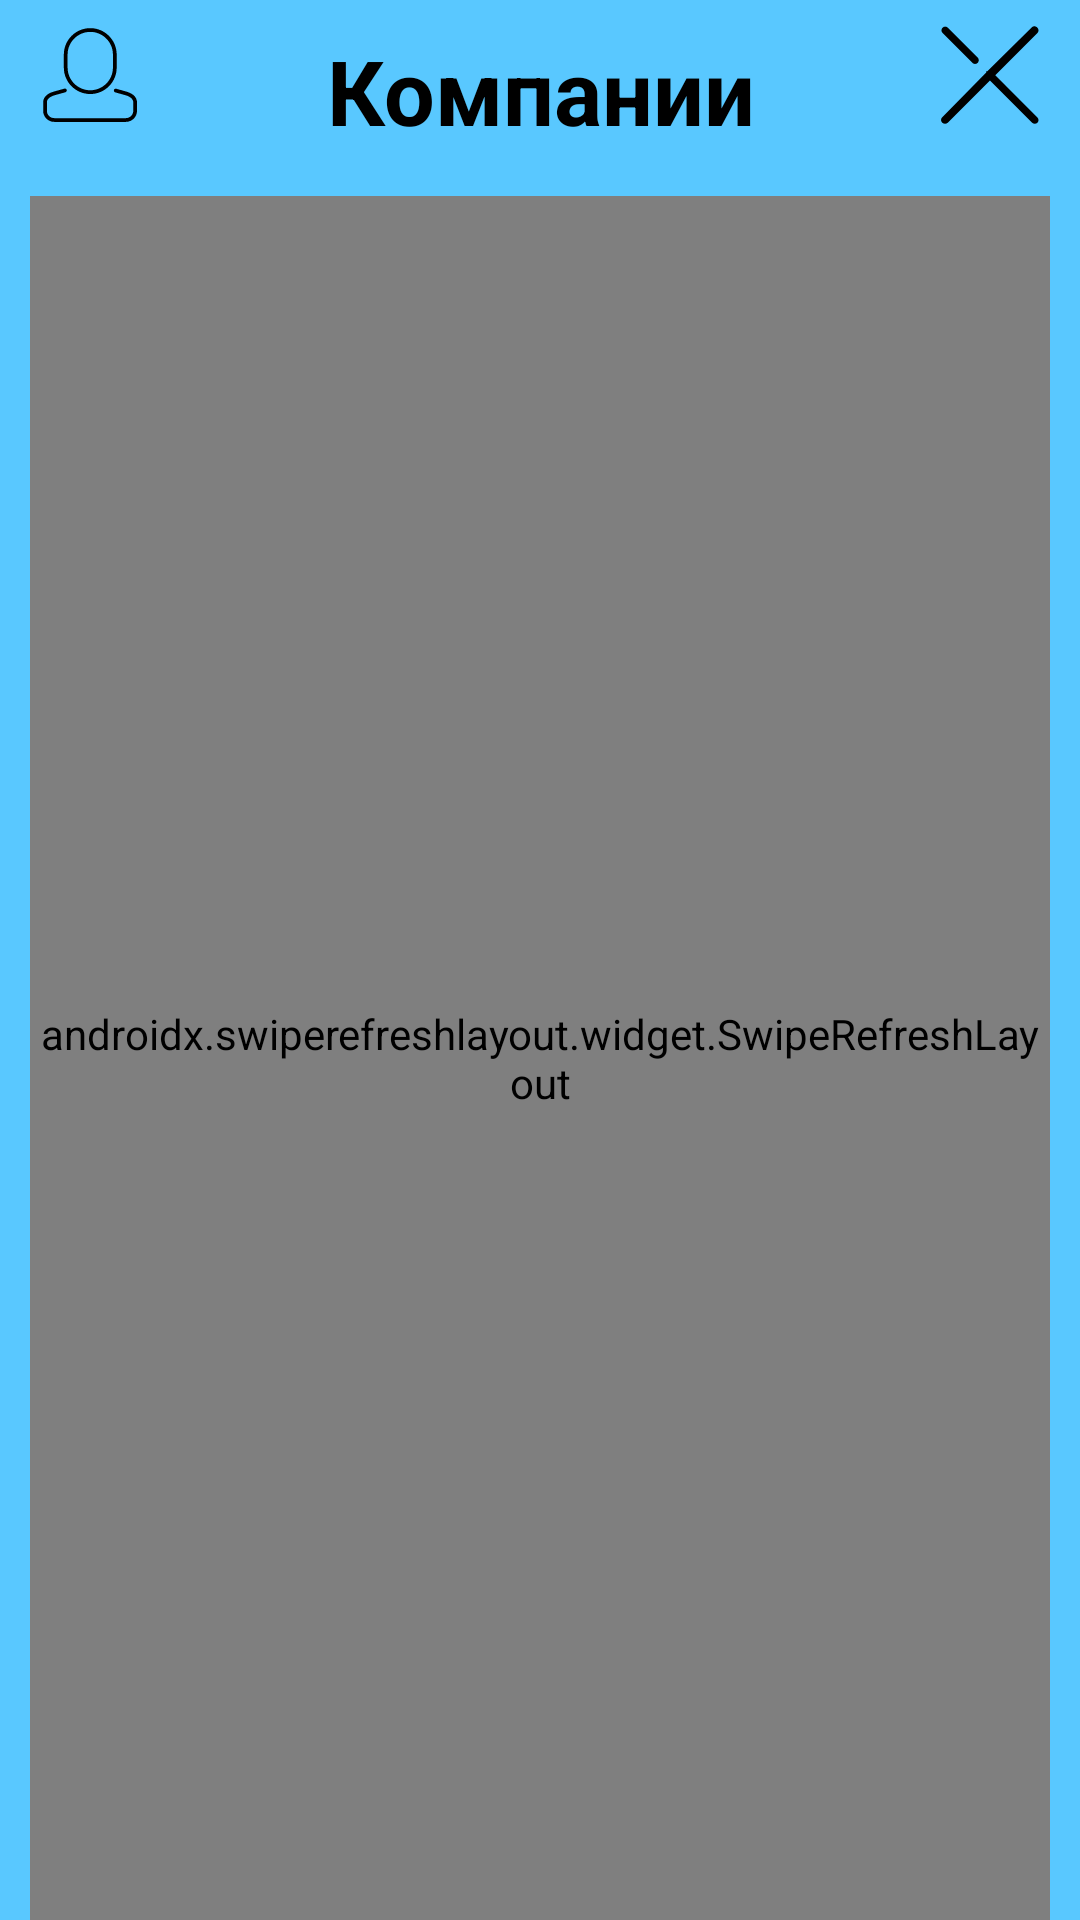

Icons on this 1080px x 1920px Android screen, each with the point to tap as (x,y):
close: (990,75)
profile: (90,75)
